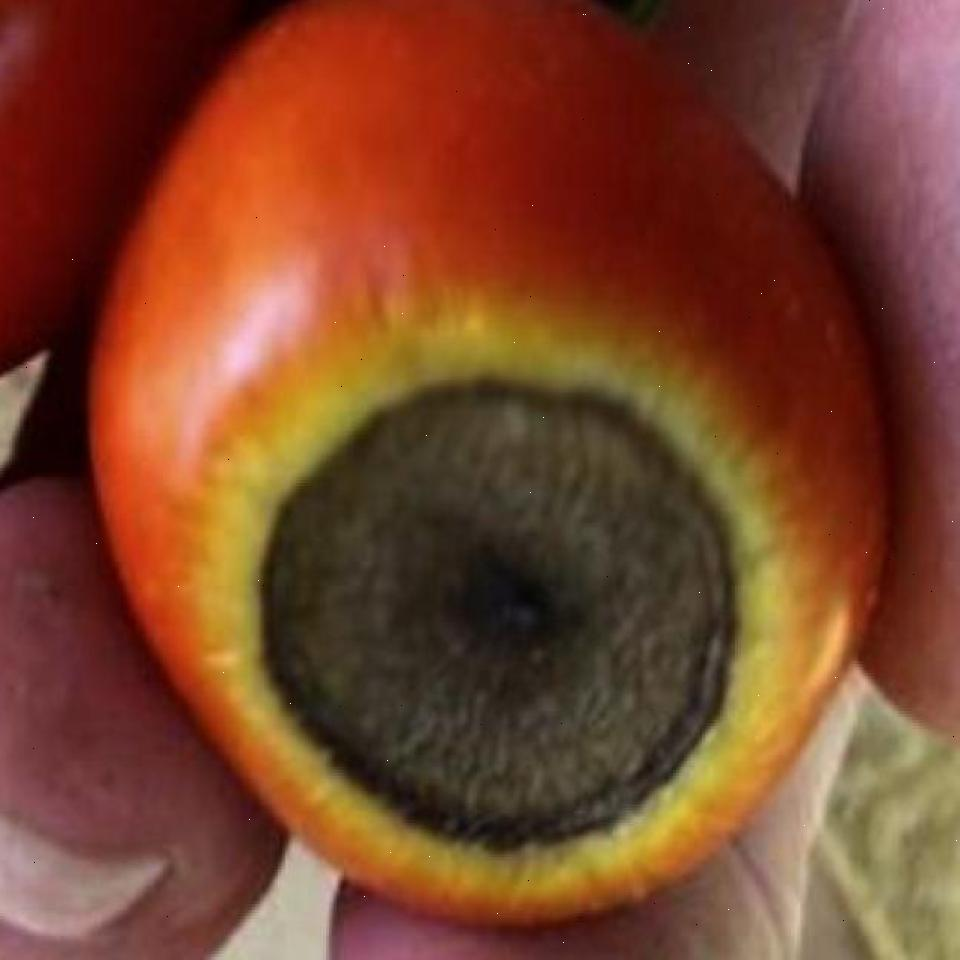Blossom_end_rot: (250, 336, 766, 858)
